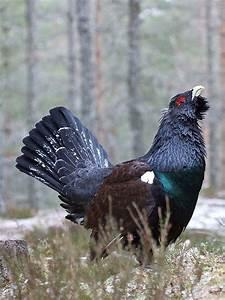hen: (14, 84, 210, 268)
